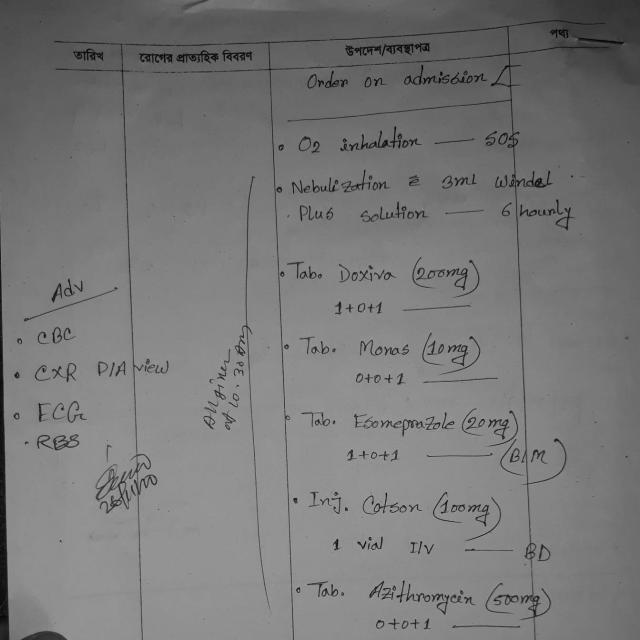Azithromycin: (364, 576, 478, 614)
Catson: (358, 490, 428, 521)
Doxiva: (334, 260, 401, 286)
Esomeprazole: (349, 406, 463, 439)
Monas: (357, 337, 413, 359)
Nebulization: (287, 172, 392, 200)
O2 Inhalation: (294, 129, 427, 156)
